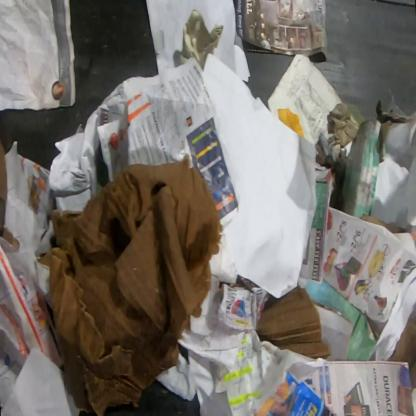cardboard: (36, 152, 227, 415), (314, 100, 410, 220), (254, 285, 332, 362)
